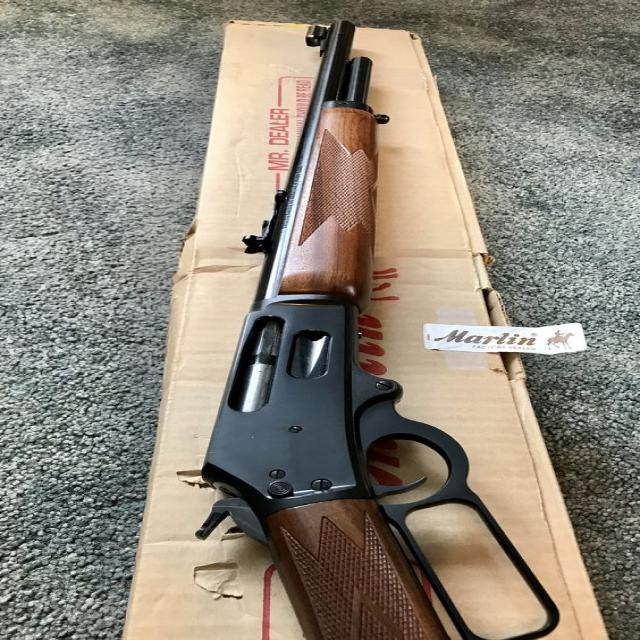shotgun: (173, 5, 609, 640)
